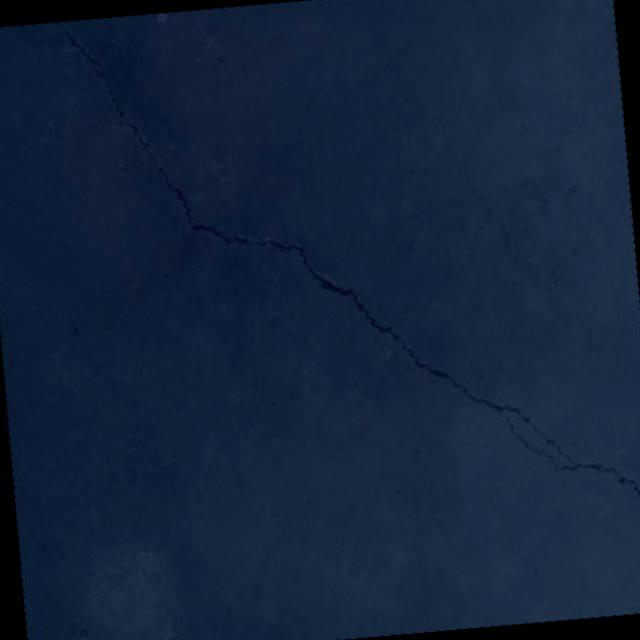crack: (54, 0, 640, 569)
